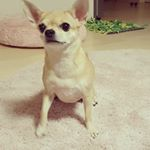puppy: (19, 1, 107, 142)
